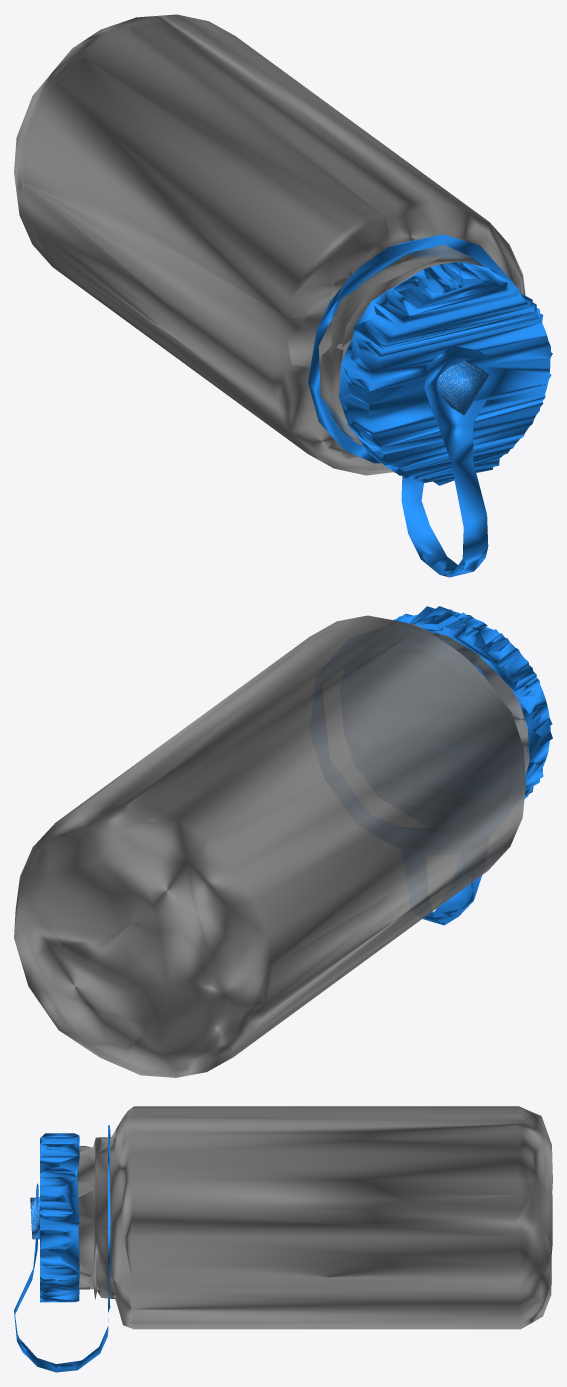
The model's file is model_align.obj.
3 views of the same model, one above another, from view 1: azimuth 30°, elevation 25°; view 2: azimuth 150°, elevation 25°; view 3: azimuth 270°, elevation 25° (orthographic). The views are drawn at different scales.
Size of the model in its own units: 0.0545 by 0.0676 by 0.1313.
